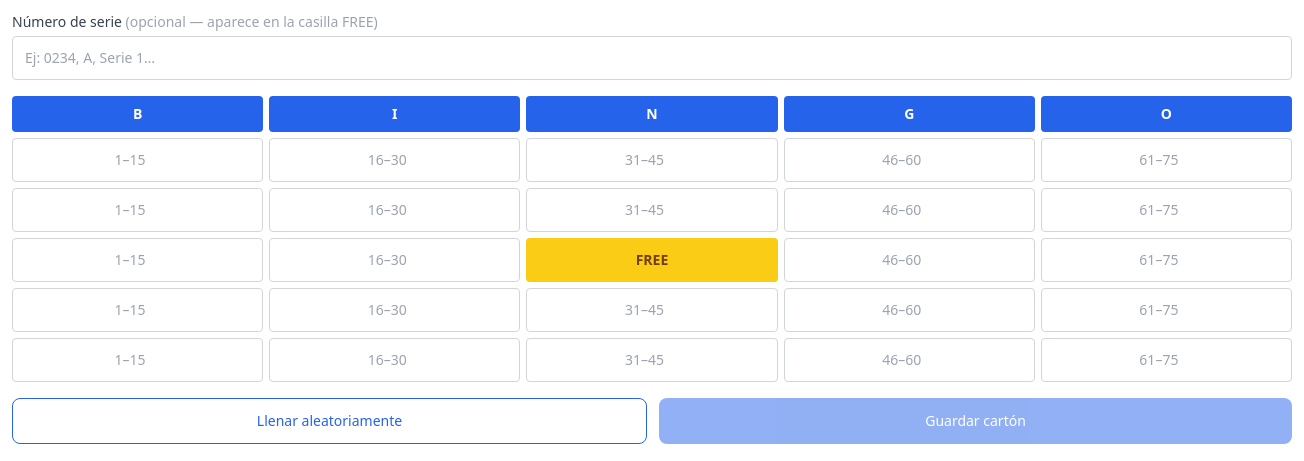
it: FormularioCartonManual › limpia el formulario después de guardar
This screenshot has width=1304, height=461.
Click the button "Llenar aleatoriamente".
click(330, 421)  # box [12,398,647,444]
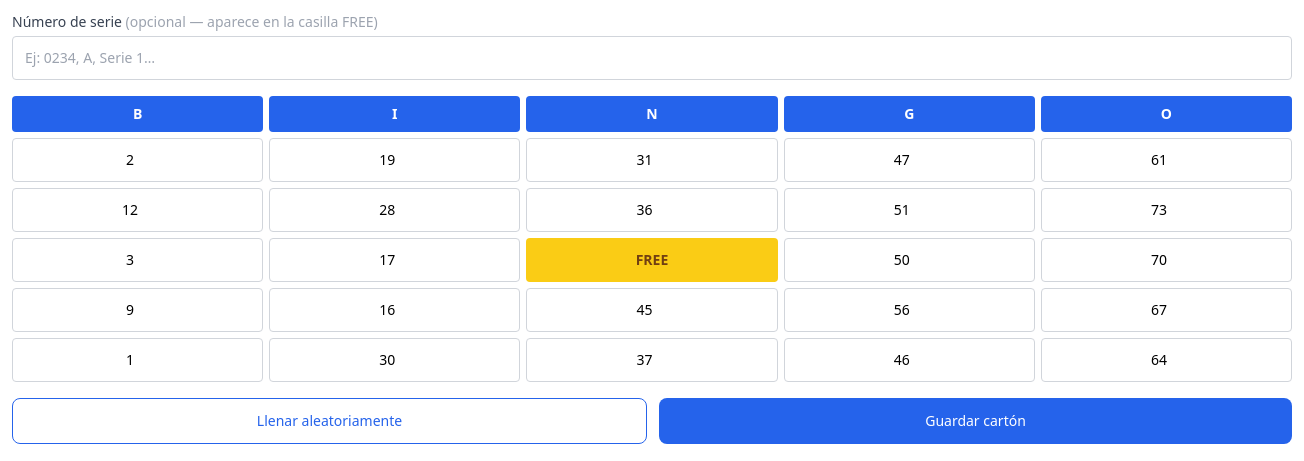
Click the button "Guardar cartón".
click(976, 421)  # box [659,398,1292,444]
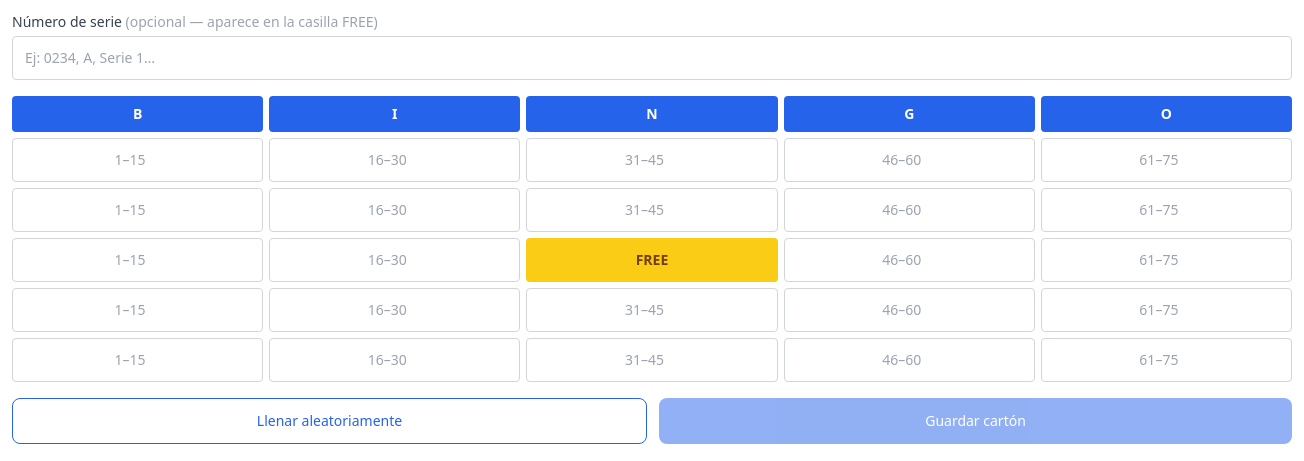
expect the button "Guardar cartón" is disabled: met, box [659,398,1292,444]
